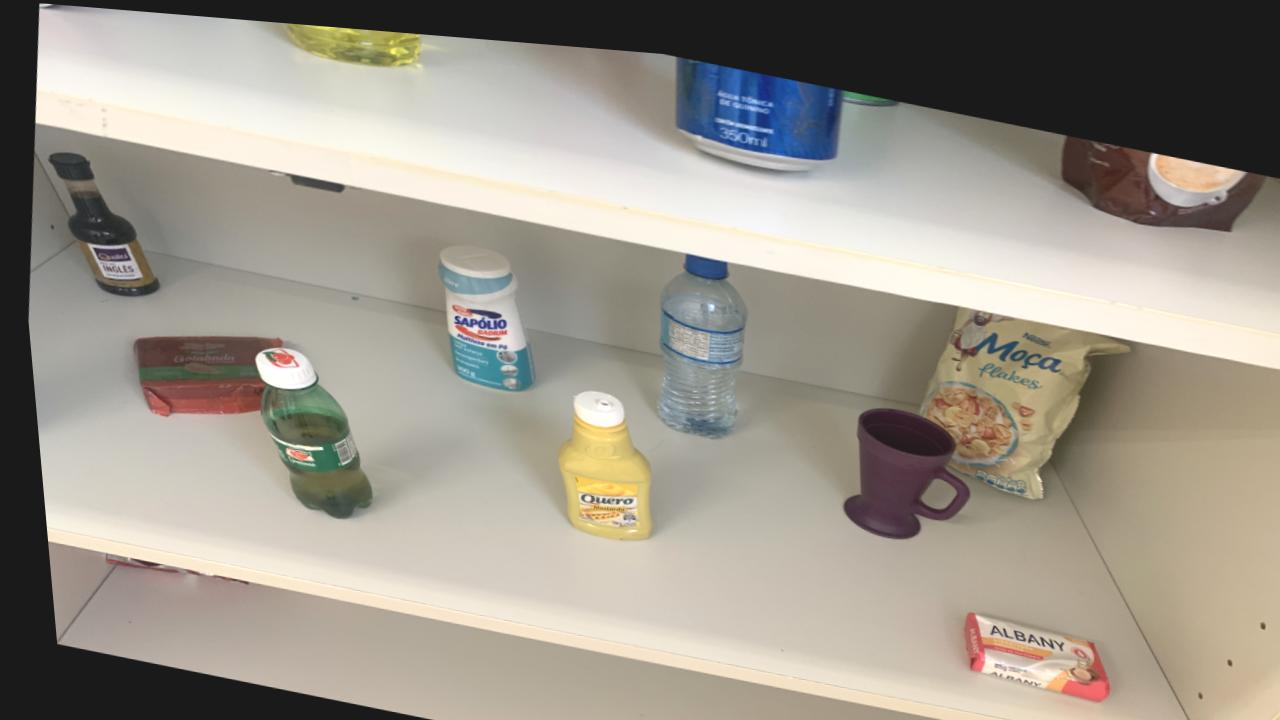Cleaner-Cleanup_Items: (435, 237, 528, 383)
Coffee-Pantry_Items: (1060, 118, 1265, 211)
Detergent-Cleanup_Items: (286, 18, 422, 60)
English_Sauce-Pantry_Items: (46, 151, 154, 295)
Flakes-Snacks: (913, 291, 1124, 482)
Guarana-Drinks: (248, 342, 365, 513)
Guava-Snacks: (127, 333, 277, 414)
Mustard-Pantry_Items: (551, 382, 644, 530)
Soap-Cleanup_Items: (954, 597, 1098, 684)
Tonic-Drinks: (674, 45, 842, 157)
Water_Bottle-Drinks: (650, 242, 742, 426)
